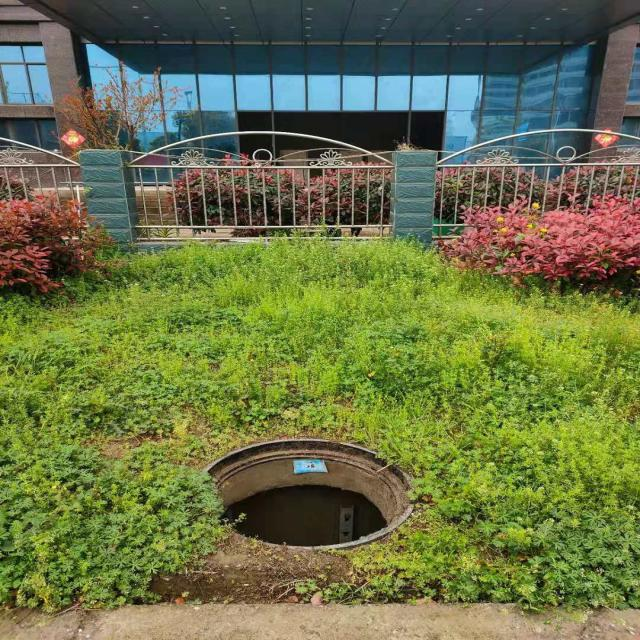Uncovered: (192, 436, 416, 550)
